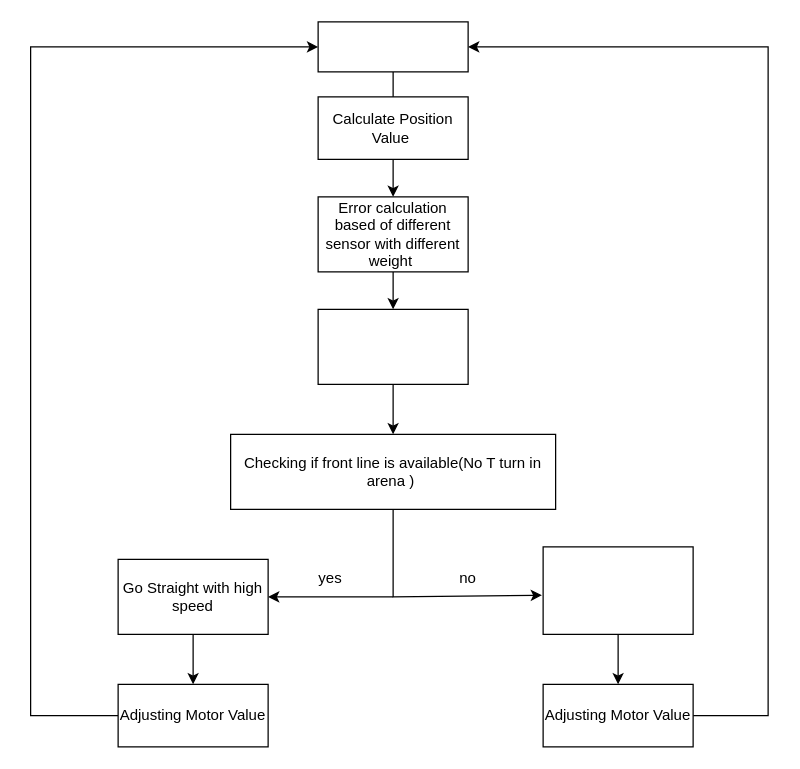
The diagram is 800 pixels wide and 769 high, and some of its shapes have lost their labels. Here are the shapes that lost their labels. From the top down, the centre of each, then its label:
At [392,46]: "Read Sensor Data".
At [392,346]: "PID calculation(error)".
At [617,590]: "Take a turn based on position of line (Choose right turn on Y intersection)".
